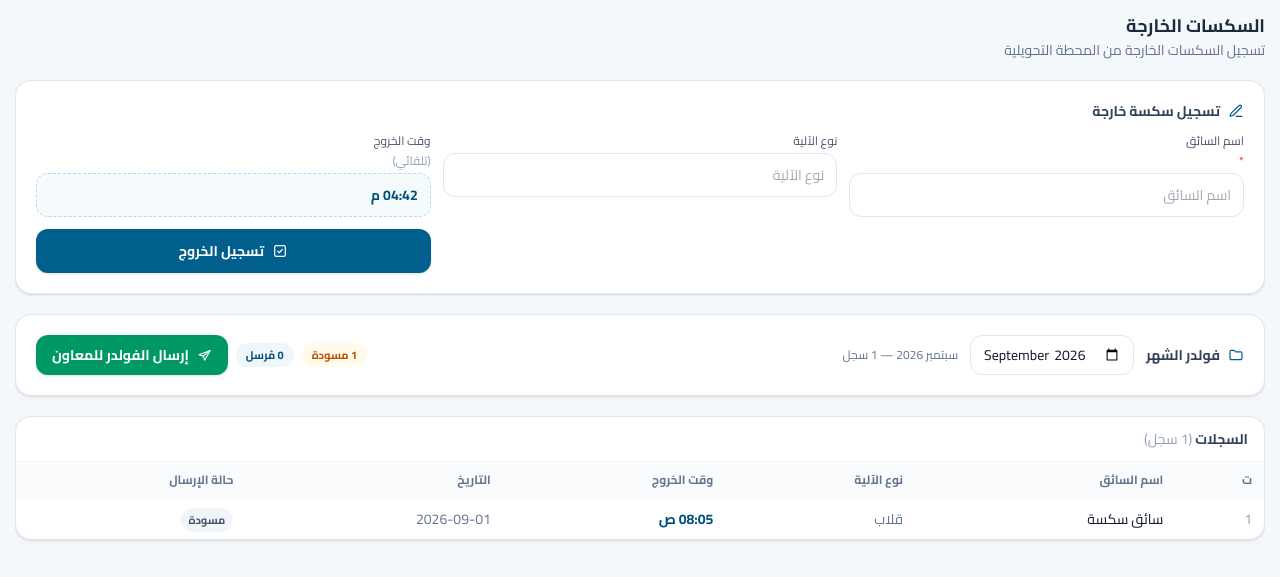
it: SaksatPage › يرفض الحفظ دون اسم السائق
The width and height of the screenshot is (1280, 577).
Click the button with test id "saksat-submit".
click(233, 251)  # box [36,229,431,273]
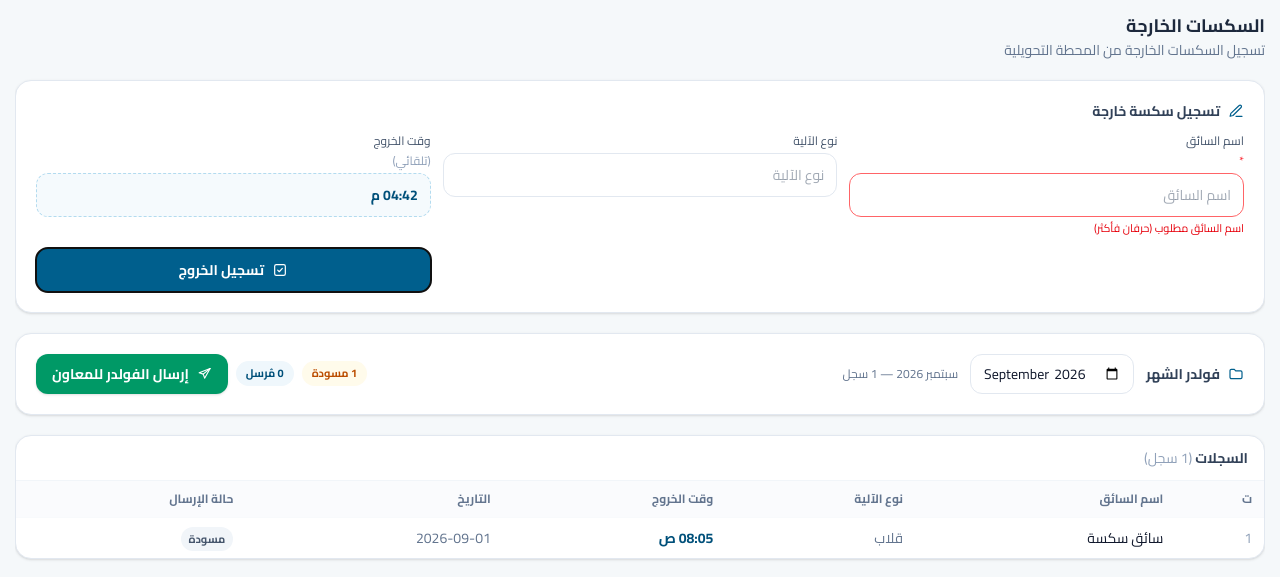
Expected: the text "اسم السائق مطلوب (حرفان فأكثر)" is shown, [1094,218,1244,238]
